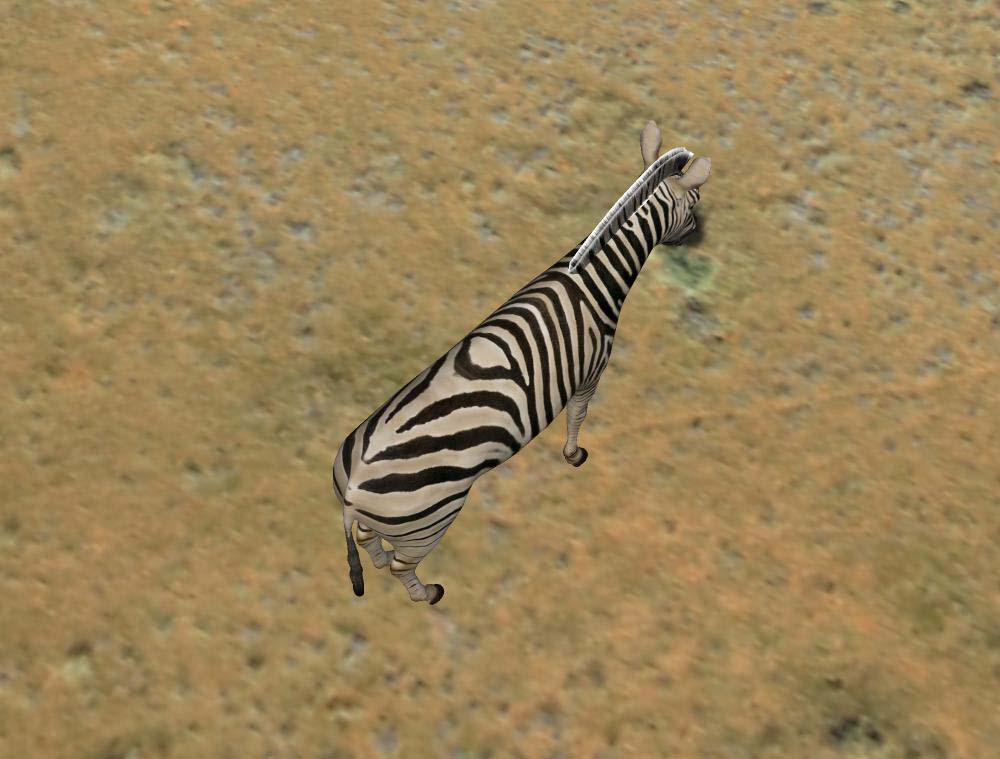zebra: (334, 116, 710, 608)
